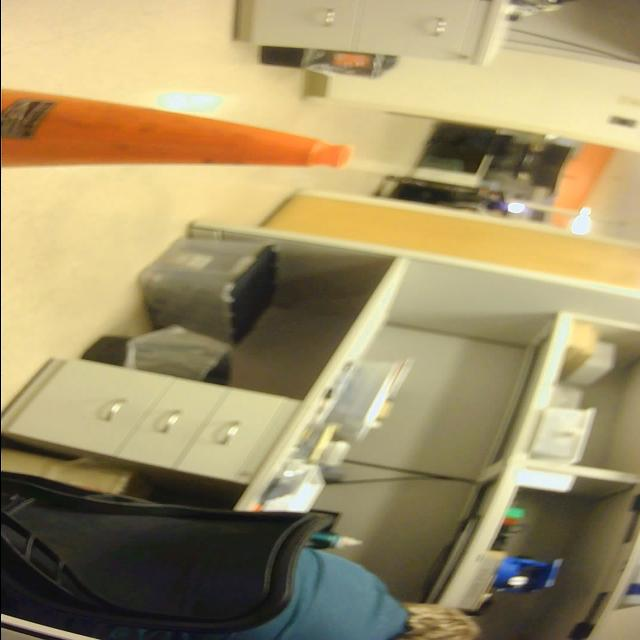traffic cone: (1, 81, 364, 176)
